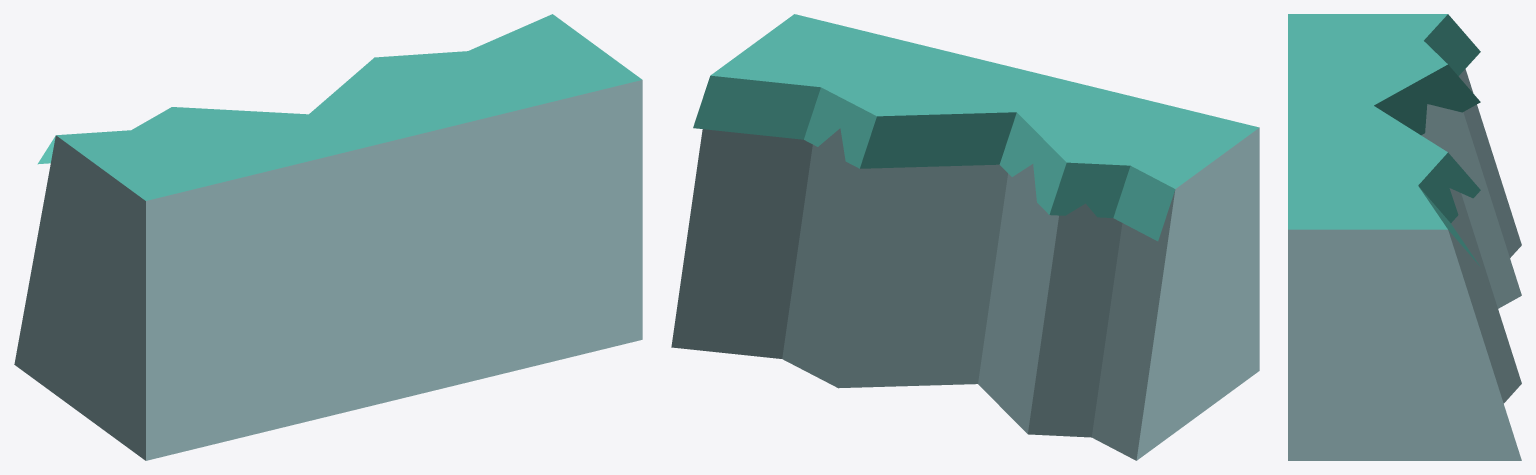
File: cliffGrey_half.obj
3 renders of one model, left to right at view 1: azimuth 30°, elevation 25°; view 2: azimuth 150°, elevation 25°; view 3: azimuth 270°, elevation 25°, orthographic. The views are drawn at different scales.
Visible parts, largest first — view 1: cliffGrey_half; view 2: cliffGrey_half; view 3: cliffGrey_half.
Part boxes in pixels (x1,y1,x2,y2): cliffGrey_half: (14,14,642,460); cliffGrey_half: (671,14,1259,460); cliffGrey_half: (1288,14,1521,460).
Bounding box in the file's own units: 10 × 5 × 4.58.
